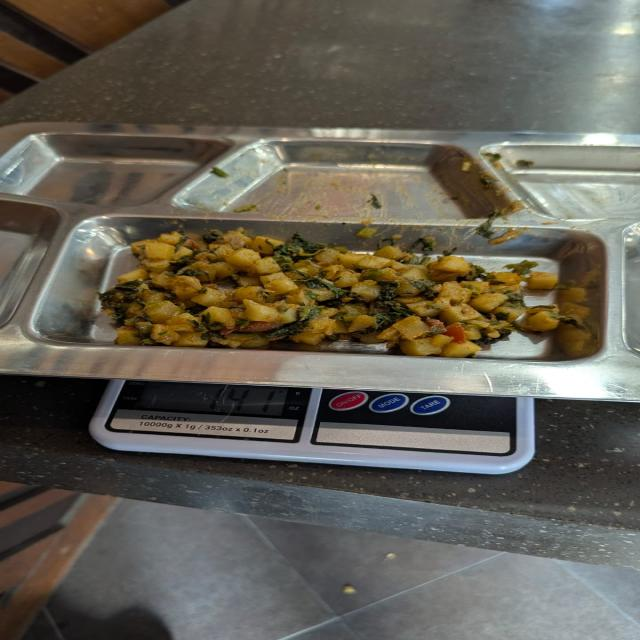Hari Bhaji: (96, 221, 570, 363)
